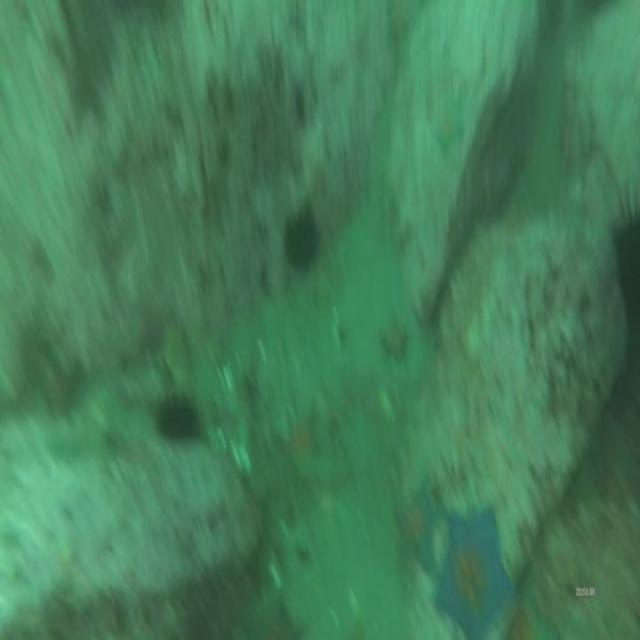echinus: (283, 213, 318, 270), (155, 401, 201, 444)
starfish: (434, 509, 516, 634), (389, 493, 441, 580), (438, 100, 465, 160), (284, 411, 318, 458), (383, 318, 410, 362)
